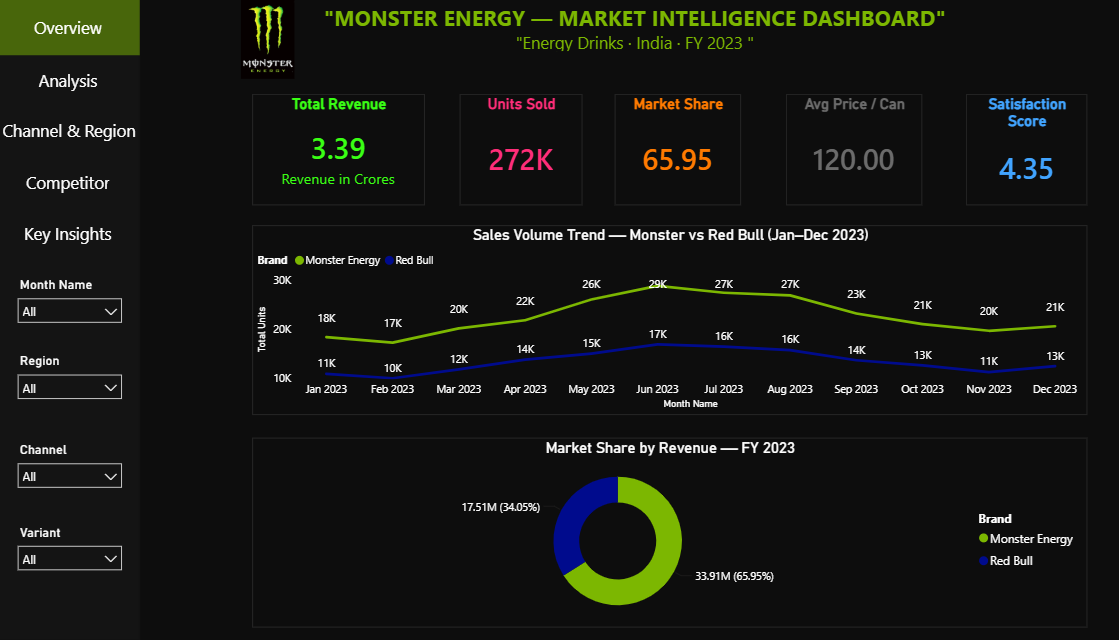

The dashboard page shown, as its layout file describes it:
{"tool":"powerbi","page":{"name":"Overview","canvas":[1280,720],"ordinal":0},"visuals":[{"type":"shape","box":[0,0,161.3,719.4],"z":0},{"type":"textbox","box":[161.3,0,1119,63.1],"z":1000},{"type":"image","box":[241.2,0,127.6,89.7],"z":2000},{"type":"cardVisual","title":"Total Revenue","fields":{"Data":["DateTable.Revenue in Crores"]},"box":[287.5,106.6,193.5,124.8],"z":3000},{"type":"cardVisual","title":"Units Sold","fields":{"Data":["DateTable.Monster Units"]},"box":[520.2,106.6,137.4,124.8],"z":4000},{"type":"cardVisual","title":"Market Share","fields":{"Data":["DateTable.Market Share %"]},"box":[694.1,106.6,141.6,124.8],"z":5000},{"type":"cardVisual","title":"Avg Price / Can","fields":{"Data":["DateTable.Avg Selling Price"]},"box":[886.2,106.6,152.8,124.8],"z":6000},{"type":"cardVisual","title":"Satisfaction Score","fields":{"Data":["DateTable.Avg Satisfaction"]},"box":[1088.2,106.6,136,124.8],"z":7000},{"type":"lineChart","title":"Sales Volume Trend — Monster vs Red Bull (Jan–Dec 2023)","fields":{"Category":["DateTable.Month Name"],"Y":["DateTable.Total Units"],"Series":["Monster_Energy_Sales_Data.Brand"]},"box":[287.5,253.8,936.7,213.1],"z":8000},{"type":"donutChart","title":"Market Share by Revenue — FY 2023","fields":{"Y":["DateTable.Total Revenue"],"Category":["Monster_Energy_Sales_Data.Brand"]},"box":[287.5,492.2,936.7,213.1],"z":9000},{"type":"slicer","fields":{"Values":["Monster_Energy_Sales_Data.Variant"]},"box":[14,585,137,74],"z":10000},{"type":"slicer","fields":{"Values":["Monster_Energy_Sales_Data.Channel"]},"box":[14,492,137,75],"z":11000},{"type":"slicer","fields":{"Values":["DateTable.Month Name"]},"box":[14,307.1,137.4,74.3],"z":12000},{"type":"slicer","fields":{"Values":["Monster_Energy_Sales_Data.Region"]},"box":[14,393,137,74],"z":13000},{"type":"actionButton","box":[0,63.1,161.3,56.1],"z":15000},{"type":"actionButton","box":[1.4,119.2,161.3,56.1],"z":16000},{"type":"actionButton","box":[0,175.3,161.3,60.3],"z":17000},{"type":"actionButton","box":[0,235.6,161.3,53.3],"z":18000},{"type":"actionButton","title":"Overview","box":[0,0,161.3,63.1],"z":18500}]}

Visuals, with their boxes on the page's 1280x720 design canvas (x1, y1, x2, y2). These are canvas units, not pixel positions in the 1119x640 screenshot, which may show the page scaled, cropped or inside an application window:
shape: 0 0 161 719
textbox: 161 0 1280 63
image: 241 0 369 90
"Total Revenue" cardVisual: 288 107 481 231
"Units Sold" cardVisual: 520 107 658 231
"Market Share" cardVisual: 694 107 836 231
"Avg Price / Can" cardVisual: 886 107 1039 231
"Satisfaction Score" cardVisual: 1088 107 1224 231
"Sales Volume Trend — Monster vs Red Bull (Jan–Dec 2023)" lineChart: 288 254 1224 467
"Market Share by Revenue — FY 2023" donutChart: 288 492 1224 705
slicer - Monster_Energy_Sales_Data.Variant: 14 585 151 659
slicer - Monster_Energy_Sales_Data.Channel: 14 492 151 567
slicer - DateTable.Month Name: 14 307 151 381
slicer - Monster_Energy_Sales_Data.Region: 14 393 151 467
actionButton: 0 63 161 119
actionButton: 1 119 163 175
actionButton: 0 175 161 236
actionButton: 0 236 161 289
"Overview" actionButton: 0 0 161 63
